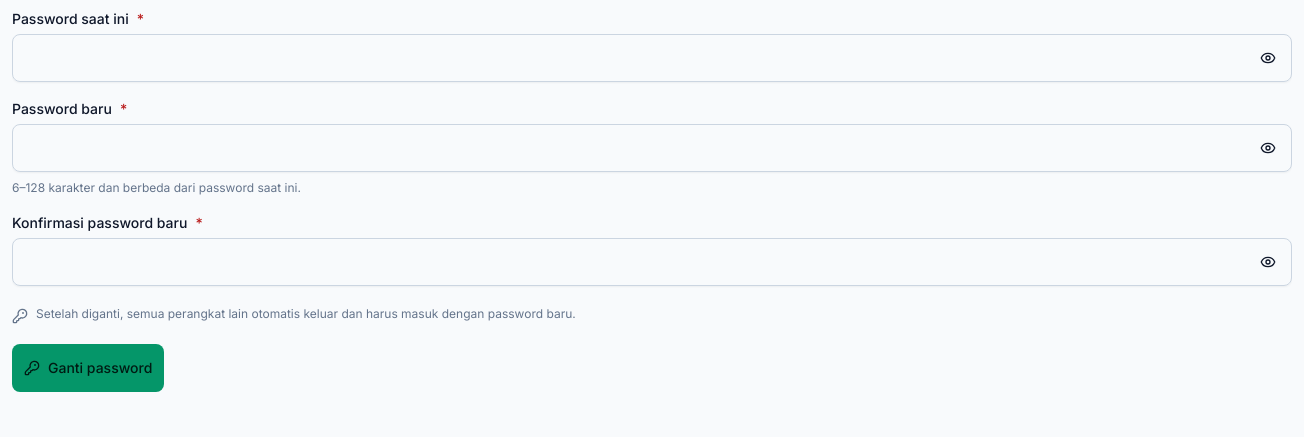
server outcomes › wrong current password: inline field error plus one error toast; field cleared, new password kept
Type "wrong-password-123" into the password field labelled "Password saat ini *".
click(652, 58); type("wrong-password-123")  # box [12,34,1292,82]
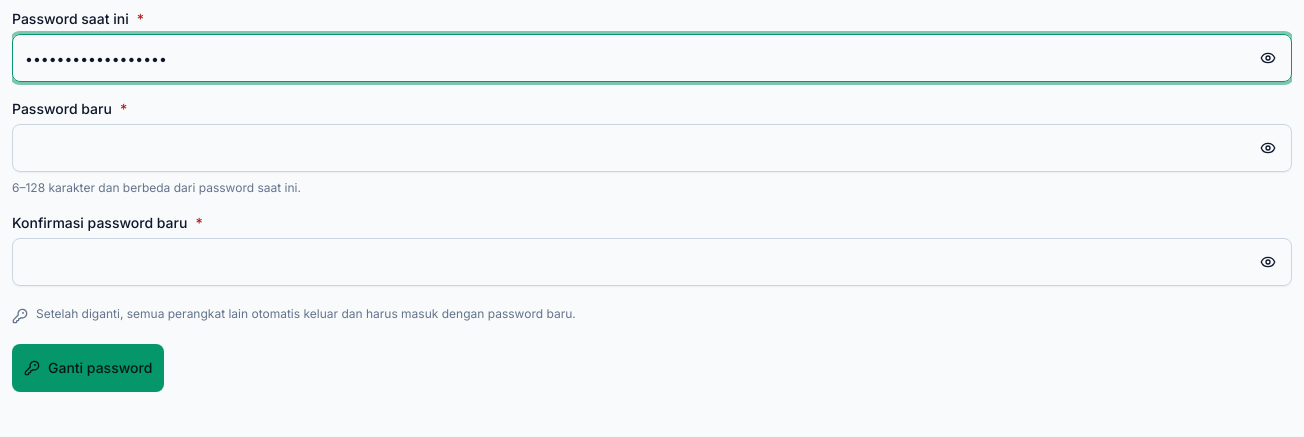
Type "synthetic-new-password" into the password field labelled "Password baru *".
click(652, 148); type("synthetic-new-password")  # box [12,124,1292,172]
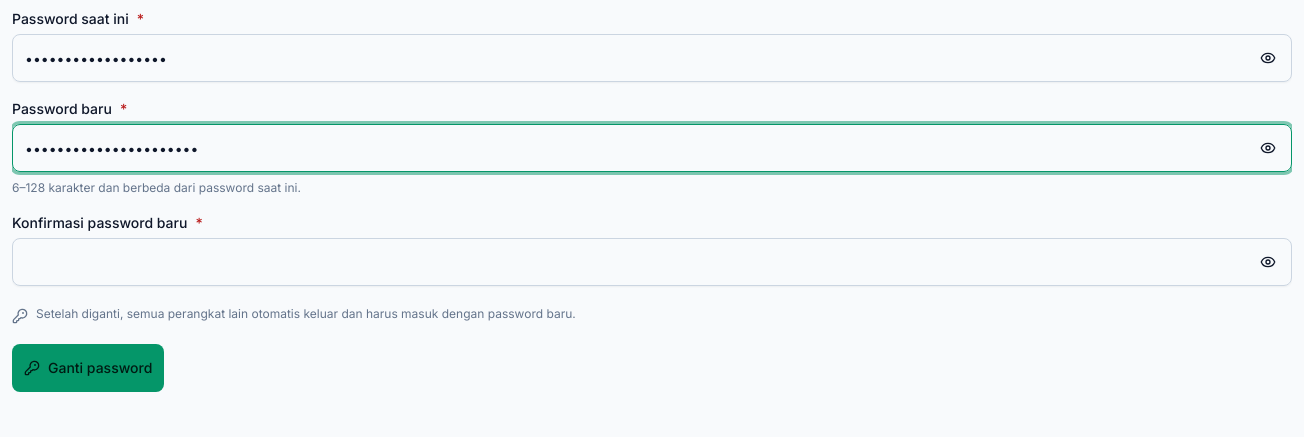
Type "synthetic-new-password" into the password field labelled "Konfirmasi password baru *".
click(652, 262); type("synthetic-new-password")  # box [12,238,1292,286]
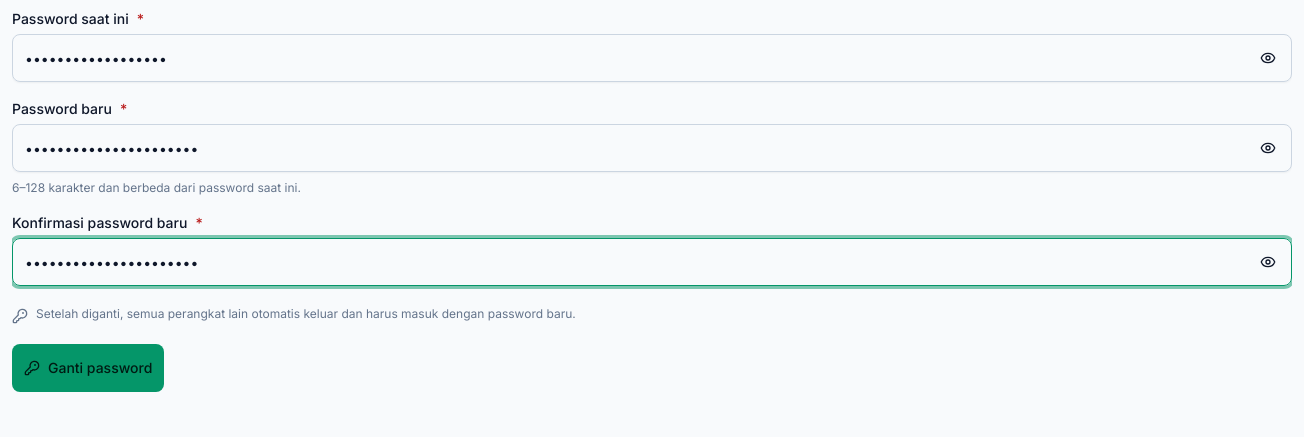
Click the button "Ganti password".
click(88, 368)  # box [12,344,164,392]
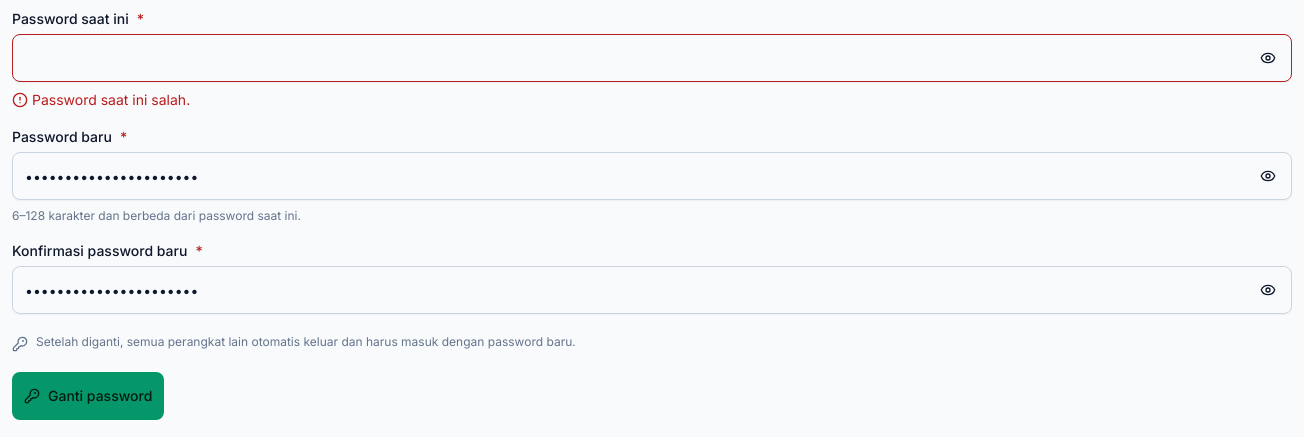
Expected: the element showing "Password saat ini salah." is shown, [12,91,190,108]
